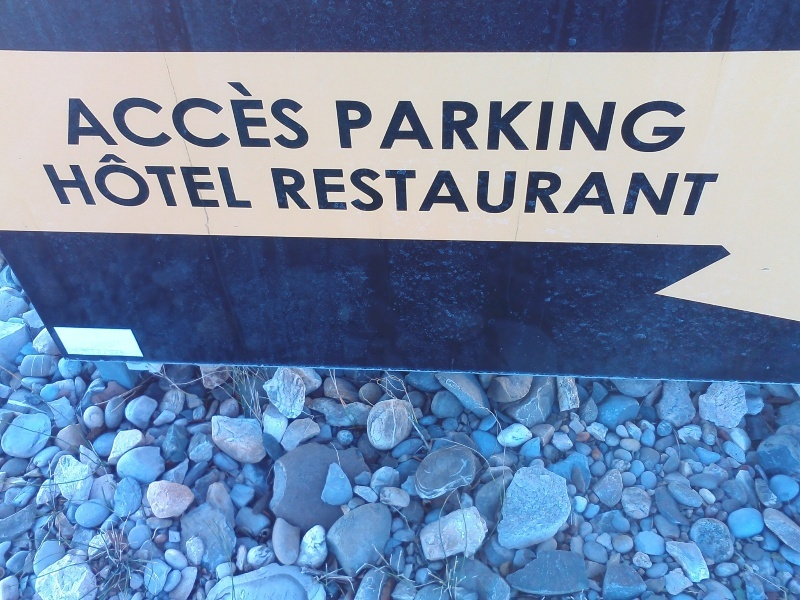text: (81, 81, 96, 149), (97, 81, 112, 149), (113, 81, 128, 149), (129, 81, 144, 149), (145, 81, 160, 149), (161, 81, 176, 149), (177, 81, 192, 149), (193, 81, 208, 149), (209, 81, 224, 149), (225, 81, 240, 149), (241, 81, 256, 149), (257, 81, 272, 149), (273, 81, 288, 149), (289, 81, 304, 149), (337, 100, 352, 154), (353, 100, 368, 154), (369, 100, 384, 154), (385, 100, 400, 154), (401, 100, 416, 154), (417, 100, 432, 154), (433, 100, 448, 154), (449, 100, 464, 154), (465, 100, 480, 154), (481, 100, 496, 154), (497, 100, 512, 154), (513, 100, 528, 154), (529, 100, 544, 154), (545, 100, 560, 154), (561, 100, 576, 154), (577, 100, 592, 154), (593, 100, 608, 154), (609, 100, 624, 154), (625, 100, 640, 154), (641, 100, 656, 154), (657, 100, 672, 154), (49, 154, 64, 208), (65, 154, 80, 208), (81, 154, 96, 208), (97, 154, 112, 208), (113, 154, 128, 208), (129, 154, 144, 208), (145, 154, 160, 208), (161, 154, 176, 208), (177, 154, 192, 208), (193, 154, 208, 208), (209, 154, 224, 208), (225, 154, 240, 208), (673, 100, 687, 154), (69, 81, 80, 149), (273, 167, 288, 216), (289, 167, 304, 216), (305, 167, 320, 216), (321, 167, 336, 216), (337, 167, 352, 216), (353, 167, 368, 216), (369, 167, 384, 216), (385, 167, 400, 216), (401, 167, 416, 216), (417, 167, 432, 216), (433, 167, 448, 216), (449, 167, 464, 216), (465, 167, 480, 216), (481, 167, 496, 216), (497, 167, 512, 216), (513, 167, 528, 216), (529, 167, 544, 216), (545, 167, 560, 216), (561, 167, 576, 216), (577, 167, 592, 216), (593, 167, 608, 216), (609, 167, 624, 216), (625, 167, 640, 216), (641, 167, 656, 216), (657, 167, 672, 216), (673, 167, 688, 216), (689, 167, 704, 216), (705, 167, 720, 216), (241, 154, 253, 208), (37, 154, 48, 208), (305, 81, 310, 149), (334, 100, 336, 154), (270, 167, 272, 216)
